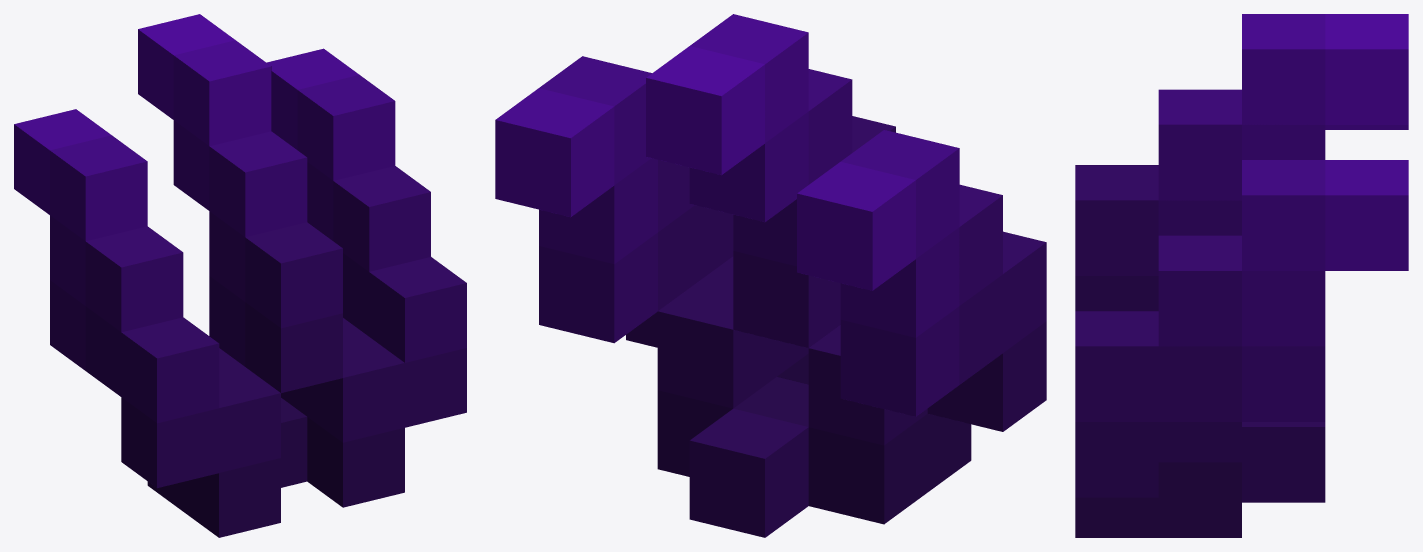
File: VoidLordIsolationHand.obj
The picture shows the model from 3 angles, left to right: view 1: azimuth 30°, elevation 25°; view 2: azimuth 150°, elevation 25°; view 3: azimuth 270°, elevation 25°; orthographic projection. The views are drawn at different scales.
Visible parts, largest first — view 1: VoidLordIsolationHand; view 2: VoidLordIsolationHand; view 3: VoidLordIsolationHand.
Part boxes in pixels (x1,y1,x2,y2): VoidLordIsolationHand: (14, 14, 466, 537); VoidLordIsolationHand: (495, 14, 1046, 537); VoidLordIsolationHand: (1075, 14, 1408, 537).
Size of the model in its own units: 5 by 6 by 4.
Materials: 1 (1 with a texture image).
